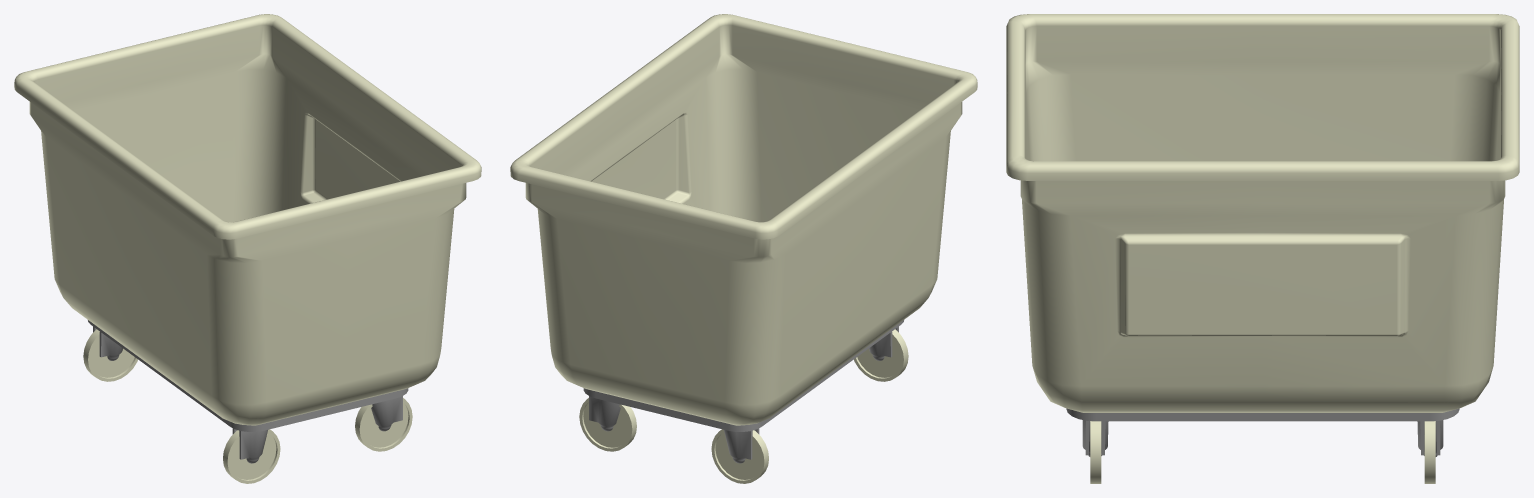
The model's file is Trolly.fbx.
The picture shows the model from 3 angles, left to right: view 1: azimuth 30°, elevation 25°; view 2: azimuth 150°, elevation 25°; view 3: azimuth 270°, elevation 25°; orthographic projection. The views are drawn at different scales.
Parts seen in each view (by area): view 1: Trolly_Base, Trolly_Wheels; view 2: Trolly_Base, Trolly_Wheels; view 3: Trolly_Base, Trolly_Wheels.
Part boxes in pixels (x1,y1,x2,y2): Trolly_Base: (14, 14, 481, 431); Trolly_Wheels: (83, 326, 412, 483); Trolly_Base: (510, 14, 977, 431); Trolly_Wheels: (579, 326, 908, 483); Trolly_Base: (1006, 14, 1519, 421); Trolly_Wheels: (1082, 420, 1443, 483).
Bounding box in the file's own units: 0.8606 × 0.911 × 1.2.
